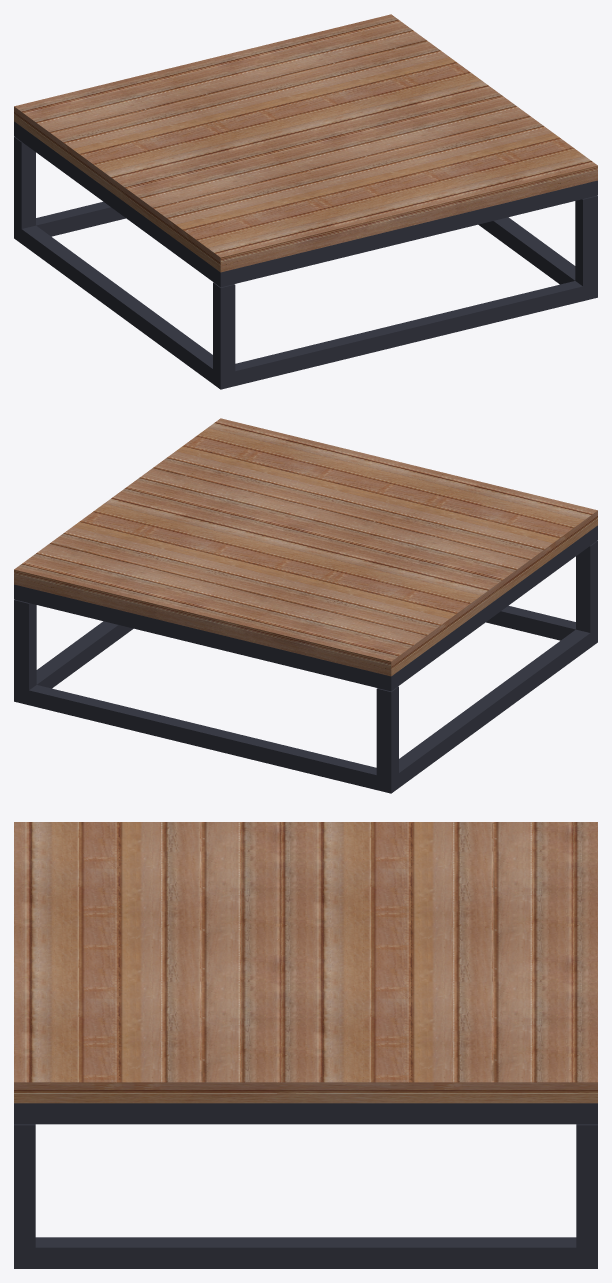
The model's file is Prop_table5.FBX.
The picture shows the model from 3 angles, top to bottom: view 1: azimuth 30°, elevation 25°; view 2: azimuth 150°, elevation 25°; view 3: azimuth 270°, elevation 25°; orthographic projection. The views are drawn at different scales.
Parts seen in each view (by area): view 1: table006; view 2: table006; view 3: table006.
Part boxes in pixels (x1,y1,x2,y2): table006: [14, 14, 597, 389]; table006: [14, 418, 597, 793]; table006: [14, 822, 597, 1268].
Size of the model in its own units: 38.55 by 36.58 by 12.89.
2 materials, 1 textured.
